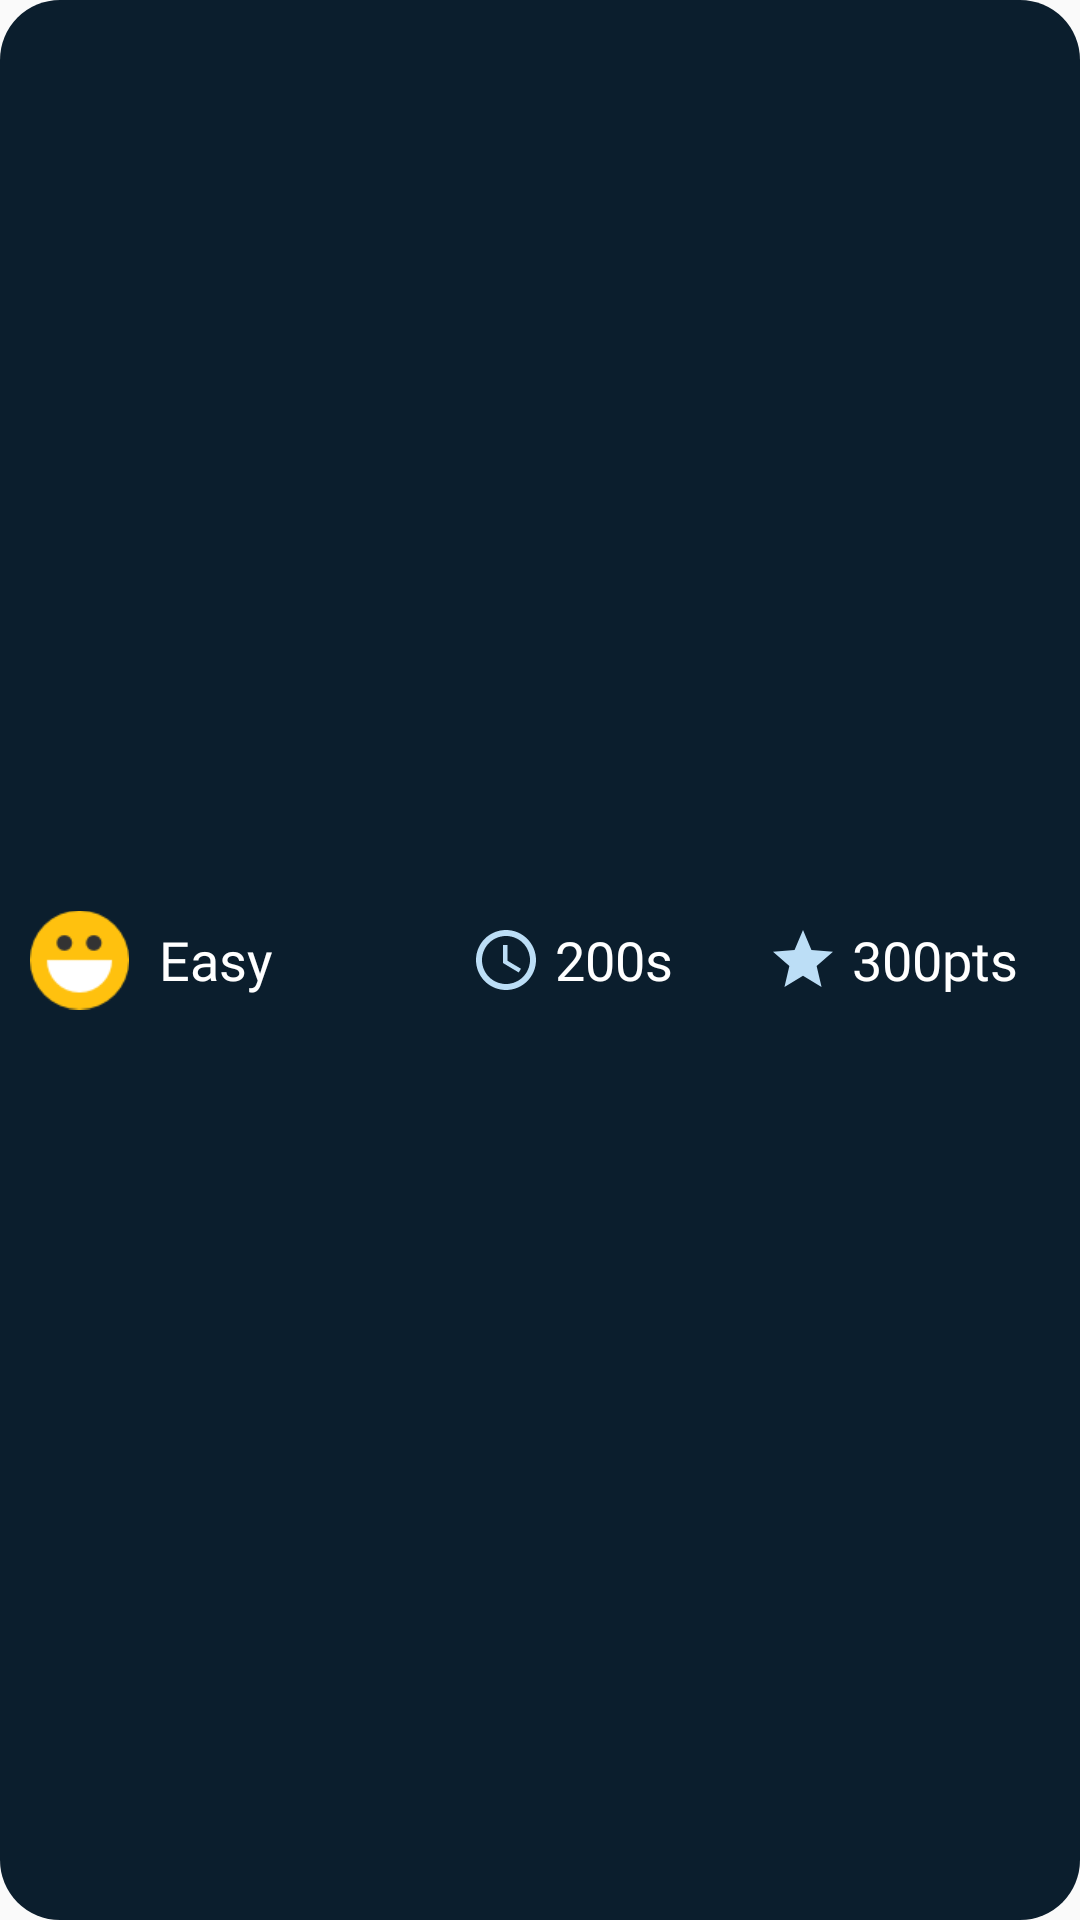

Named icons in this screenshot (1080×1920) and their centers, [x,y]:
access time: [506,960]
happy: [79,960]
star: [803,958]
